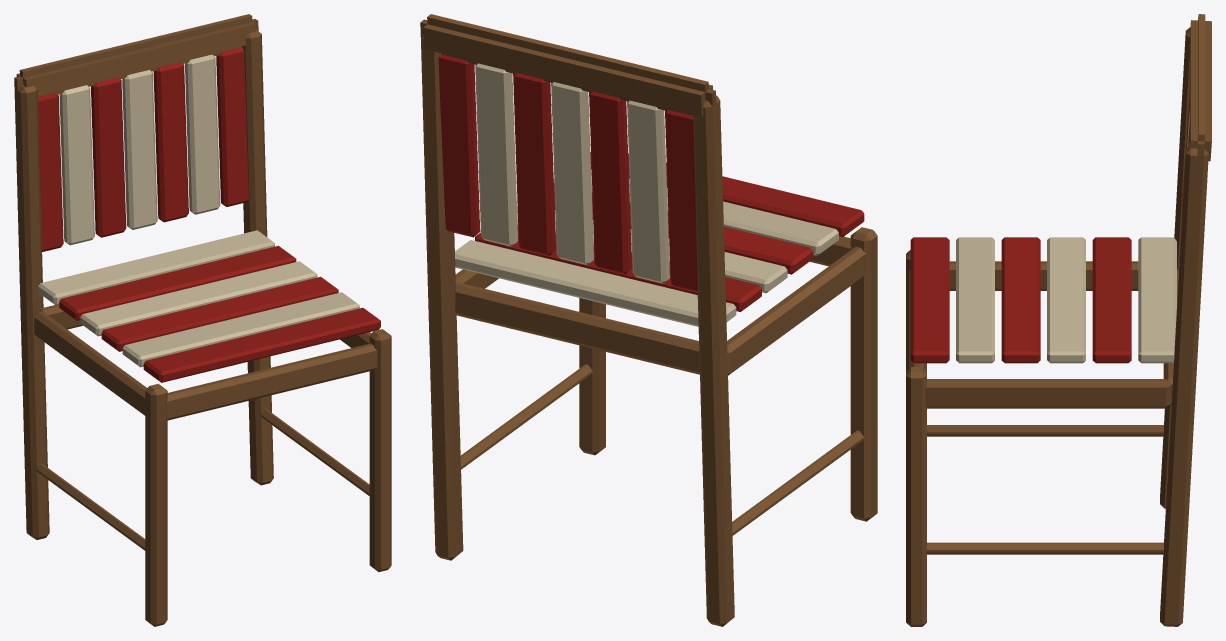
Rendered from koala-chair.glb.
The picture shows the model from 3 angles, left to right: view 1: azimuth 30°, elevation 25°; view 2: azimuth 150°, elevation 25°; view 3: azimuth 270°, elevation 25°; orthographic projection. The views are drawn at different scales.
Parts seen in each view (by area): view 1: koala-seat-fair; view 2: koala-seat-fair; view 3: koala-seat-fair.
Part boxes in pixels (box(x1,y1,x2,y2)): koala-seat-fair: box(14, 14, 391, 626); koala-seat-fair: box(420, 14, 877, 626); koala-seat-fair: box(906, 14, 1211, 626).
Bounding box in the file's own units: 0.5 × 0.9053 × 0.5105.
